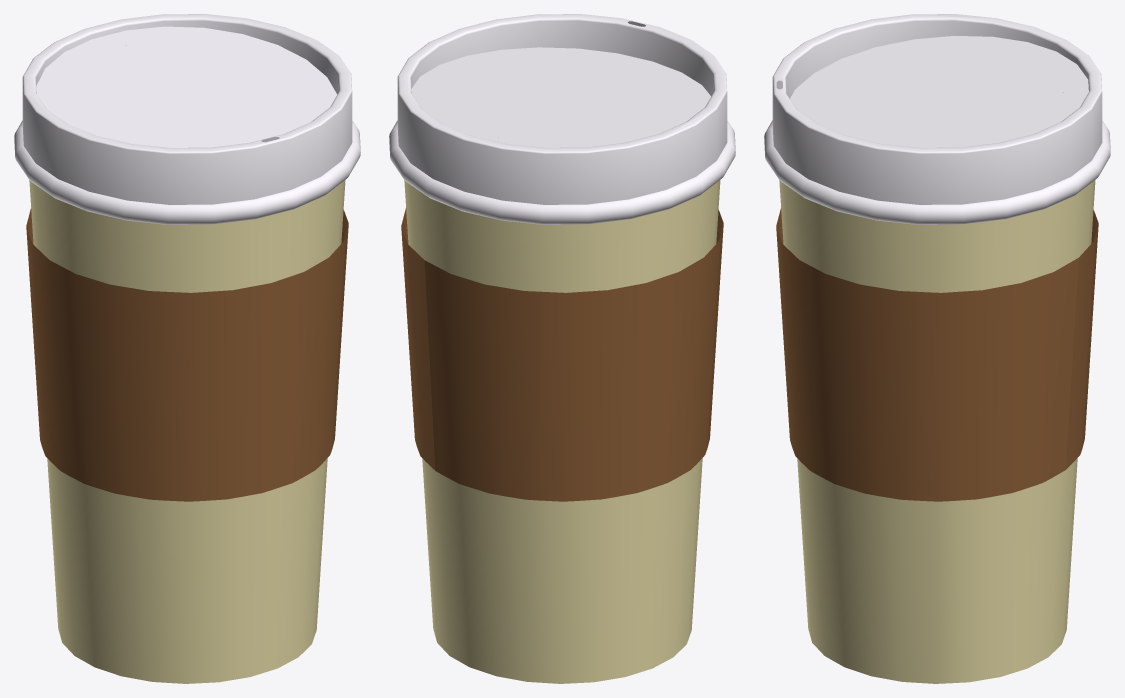
The model's file is Paper+Coffee+Cup.obj.
3 views of the same model, side by side, from view 1: azimuth 30°, elevation 25°; view 2: azimuth 150°, elevation 25°; view 3: azimuth 270°, elevation 25° (orthographic).
Visible parts, largest first — view 1: Mesh2 Group2 paper_coffee_cup1 Model, Mesh1 Group1 paper_coffee_cup1 Model, Mesh3 Group3 paper_coffee_cup1 Model, Mesh5 Group3 paper_coffee_cup1 Model, Mesh4 Group3 paper_coffee_cup1 Model; view 2: Mesh2 Group2 paper_coffee_cup1 Model, Mesh1 Group1 paper_coffee_cup1 Model, Mesh5 Group3 paper_coffee_cup1 Model, Mesh3 Group3 paper_coffee_cup1 Model, Mesh4 Group3 paper_coffee_cup1 Model; view 3: Mesh2 Group2 paper_coffee_cup1 Model, Mesh1 Group1 paper_coffee_cup1 Model, Mesh5 Group3 paper_coffee_cup1 Model, Mesh3 Group3 paper_coffee_cup1 Model, Mesh4 Group3 paper_coffee_cup1 Model.
Boxes of the visible parts, x1,y1,x2,y2 form: Mesh2 Group2 paper_coffee_cup1 Model: [29, 180, 345, 683]; Mesh1 Group1 paper_coffee_cup1 Model: [26, 208, 348, 501]; Mesh3 Group3 paper_coffee_cup1 Model: [36, 26, 337, 147]; Mesh5 Group3 paper_coffee_cup1 Model: [22, 14, 352, 204]; Mesh4 Group3 paper_coffee_cup1 Model: [14, 120, 360, 224]; Mesh2 Group2 paper_coffee_cup1 Model: [404, 180, 720, 683]; Mesh1 Group1 paper_coffee_cup1 Model: [401, 208, 723, 501]; Mesh5 Group3 paper_coffee_cup1 Model: [397, 14, 727, 204]; Mesh3 Group3 paper_coffee_cup1 Model: [411, 47, 710, 147]; Mesh4 Group3 paper_coffee_cup1 Model: [389, 120, 735, 224]; Mesh2 Group2 paper_coffee_cup1 Model: [779, 180, 1095, 683]; Mesh1 Group1 paper_coffee_cup1 Model: [776, 208, 1098, 501]; Mesh5 Group3 paper_coffee_cup1 Model: [772, 14, 1102, 204]; Mesh3 Group3 paper_coffee_cup1 Model: [776, 35, 1088, 147]; Mesh4 Group3 paper_coffee_cup1 Model: [764, 120, 1110, 224].
Size of the model in its own units: 4.1 by 7.13 by 4.1.
